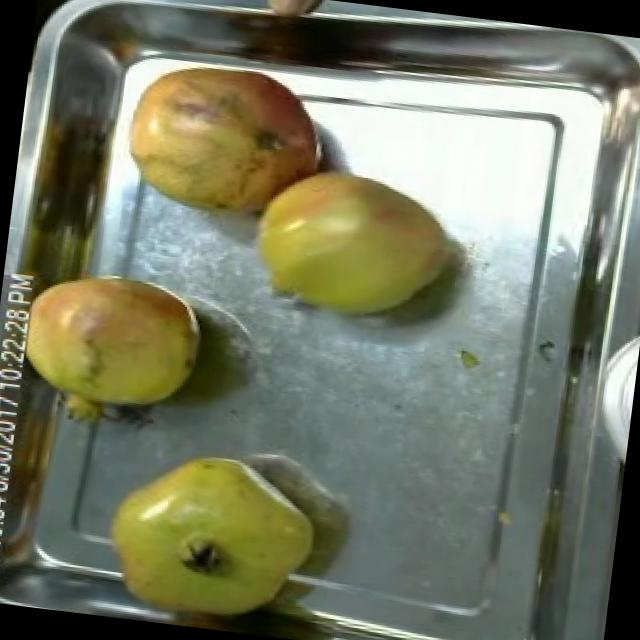fruit: (84, 427, 338, 640), (108, 42, 343, 238), (234, 150, 476, 337), (0, 251, 220, 452)
